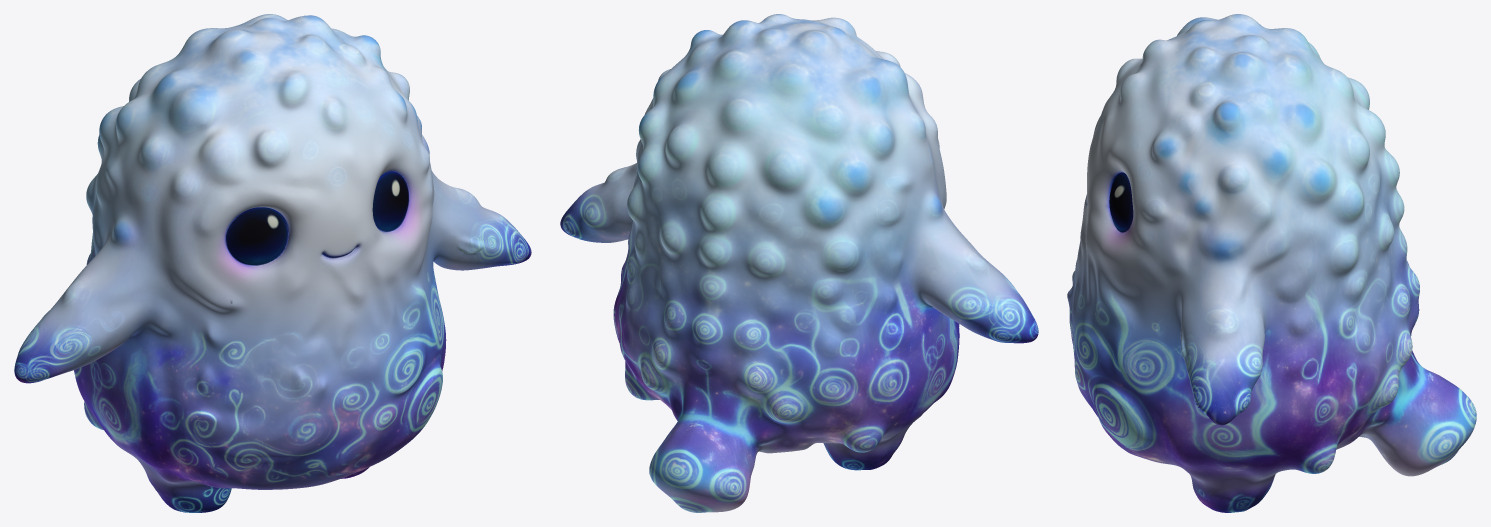
Rendered from Meshy_AI_slime_0709233123_texture.glb.
The picture shows the model from 3 angles, left to right: view 1: azimuth 30°, elevation 25°; view 2: azimuth 150°, elevation 25°; view 3: azimuth 270°, elevation 25°; orthographic projection. The views are drawn at different scales.
Size of the model in its own units: 1.9 by 1.62 by 1.36.
1 material, 1 textured.
